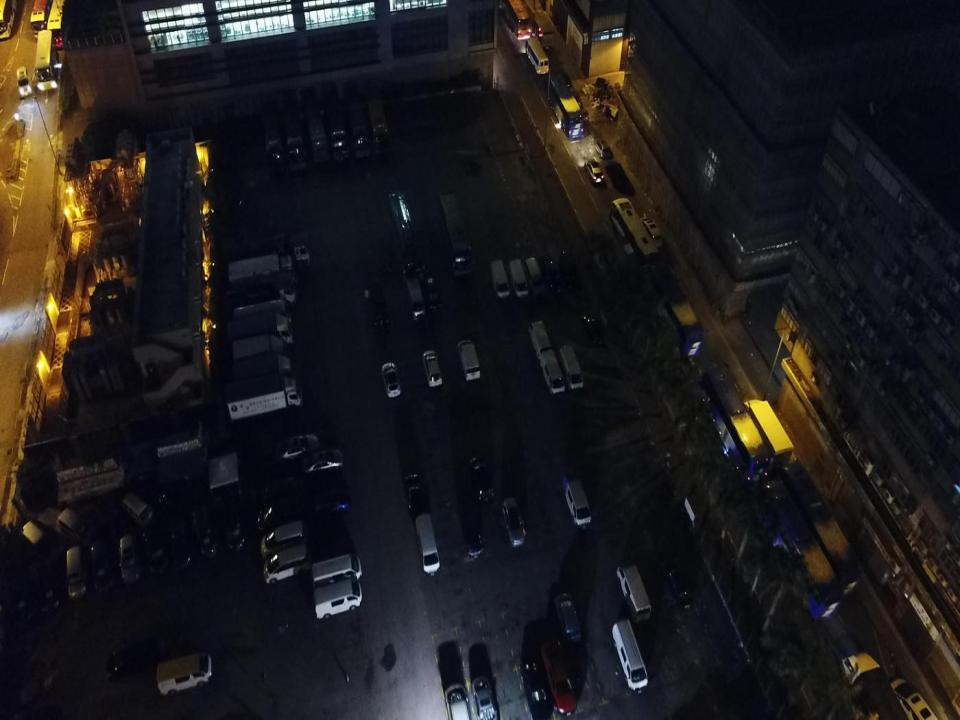bus: (754, 480, 844, 620), (780, 458, 863, 602), (703, 364, 769, 485), (644, 260, 704, 357), (608, 198, 660, 272), (439, 191, 474, 280), (544, 69, 586, 141), (35, 29, 58, 90), (501, 0, 532, 40), (46, 0, 70, 49), (526, 36, 550, 76), (30, 0, 52, 39)
car: (541, 640, 576, 716), (104, 638, 161, 680), (886, 677, 940, 719), (522, 660, 554, 718), (553, 592, 583, 645), (273, 432, 320, 464), (193, 503, 218, 559), (470, 673, 500, 719), (500, 496, 526, 548), (664, 561, 692, 609), (220, 496, 244, 552), (458, 508, 483, 560), (470, 455, 494, 504), (170, 518, 193, 568), (144, 526, 167, 576), (444, 683, 475, 719), (367, 280, 389, 330), (540, 255, 565, 299), (118, 533, 138, 584), (90, 538, 110, 589), (312, 488, 352, 513), (306, 449, 344, 474), (404, 474, 426, 516), (559, 254, 581, 293), (581, 312, 604, 346), (422, 349, 442, 388), (640, 216, 662, 248), (606, 161, 628, 191), (382, 361, 400, 397), (584, 158, 605, 186), (425, 277, 440, 312), (593, 138, 612, 160), (558, 68, 572, 92), (570, 90, 583, 112)
truck: (840, 652, 914, 719), (743, 398, 794, 477), (225, 228, 314, 268), (226, 378, 303, 419), (388, 190, 423, 278), (226, 252, 299, 291), (224, 272, 297, 306), (233, 352, 294, 384), (283, 105, 307, 174), (233, 320, 294, 345), (233, 300, 294, 324), (264, 109, 285, 178), (232, 332, 282, 359), (326, 106, 350, 159), (350, 103, 372, 156), (307, 104, 327, 161), (368, 100, 390, 151), (530, 6, 554, 51)
van: (612, 618, 648, 694), (157, 652, 211, 696), (617, 560, 652, 624), (314, 575, 363, 620), (311, 554, 363, 594), (266, 544, 310, 584), (414, 512, 440, 576), (562, 471, 591, 528), (260, 524, 308, 556), (258, 500, 305, 531), (59, 508, 96, 546), (539, 350, 566, 397), (120, 490, 154, 527), (66, 546, 88, 600), (20, 520, 50, 557), (559, 345, 583, 391), (457, 337, 481, 383), (522, 258, 546, 298), (490, 258, 510, 304), (529, 320, 551, 360), (408, 277, 426, 322), (509, 258, 528, 300), (16, 66, 33, 97)
